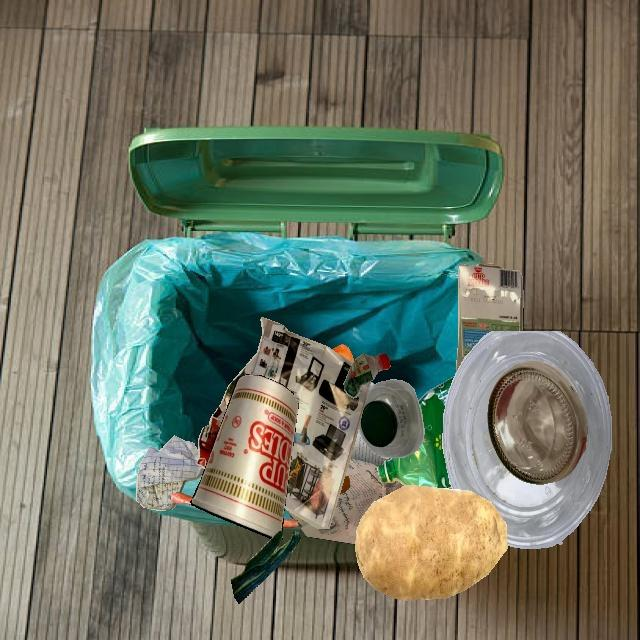biowaste: (355, 485, 507, 601), (231, 531, 300, 604), (171, 492, 200, 509), (332, 344, 354, 362), (339, 476, 350, 495), (283, 519, 299, 528)
cardboard: (455, 263, 524, 374)
glass: (487, 361, 587, 485)
paper: (197, 317, 371, 529), (289, 426, 404, 544), (136, 435, 205, 511)
plastic: (443, 331, 612, 549), (377, 376, 455, 489), (359, 379, 425, 458), (343, 353, 390, 398)
trash: (191, 374, 298, 539)
